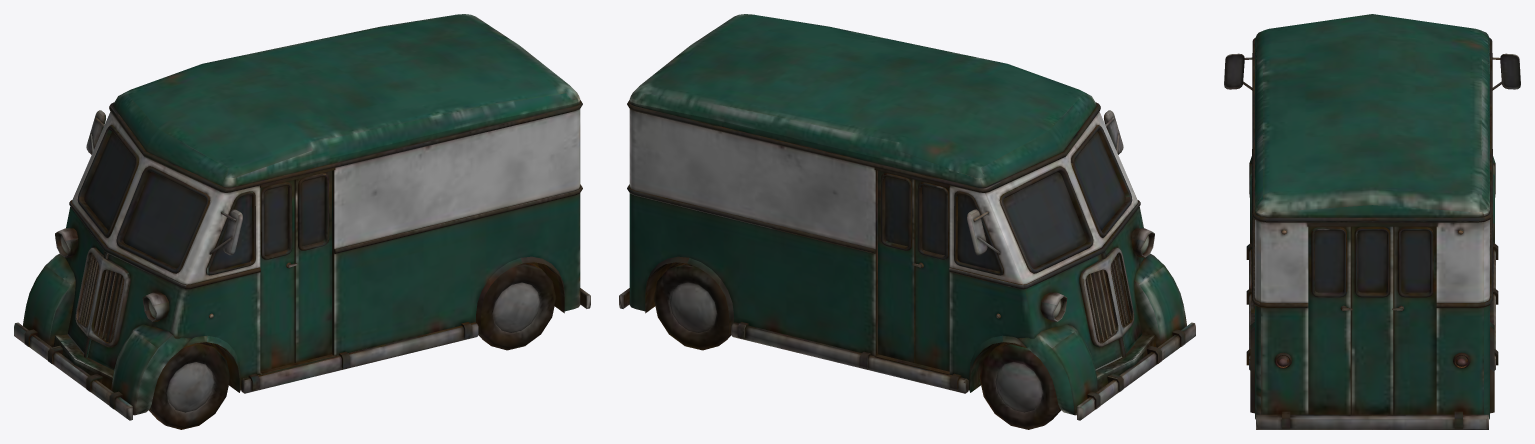
The model's file is prop_van.glb.
3 renders of one model, left to right at view 1: azimuth 30°, elevation 25°; view 2: azimuth 150°, elevation 25°; view 3: azimuth 270°, elevation 25°, orthographic.
Parts seen in each view (by area): view 1: Cube.001_0; view 2: Cube.001_0; view 3: Cube.001_0.
Part boxes in pixels (x1,y1,x2,y2): Cube.001_0: (14, 14, 590, 429); Cube.001_0: (619, 14, 1195, 429); Cube.001_0: (1224, 14, 1520, 429).
Bounding box in the file's own units: 26.52 × 14.42 × 14.4.
Materials: 1 (1 with a texture image).
